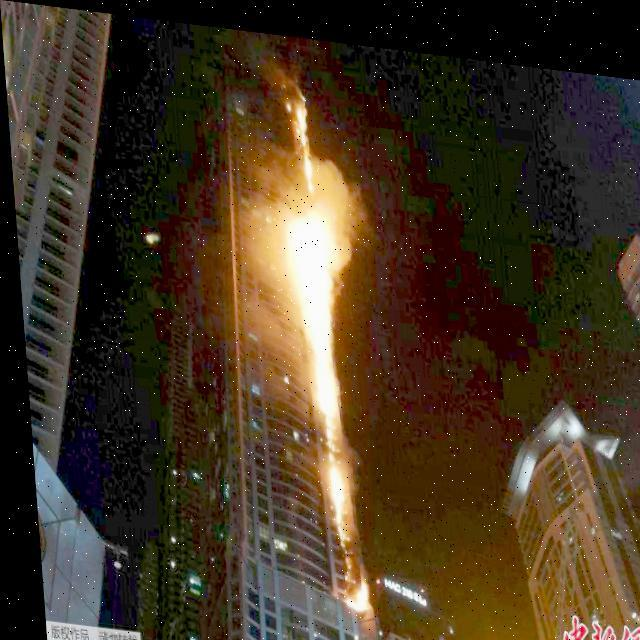Fire: (272, 83, 376, 606)
